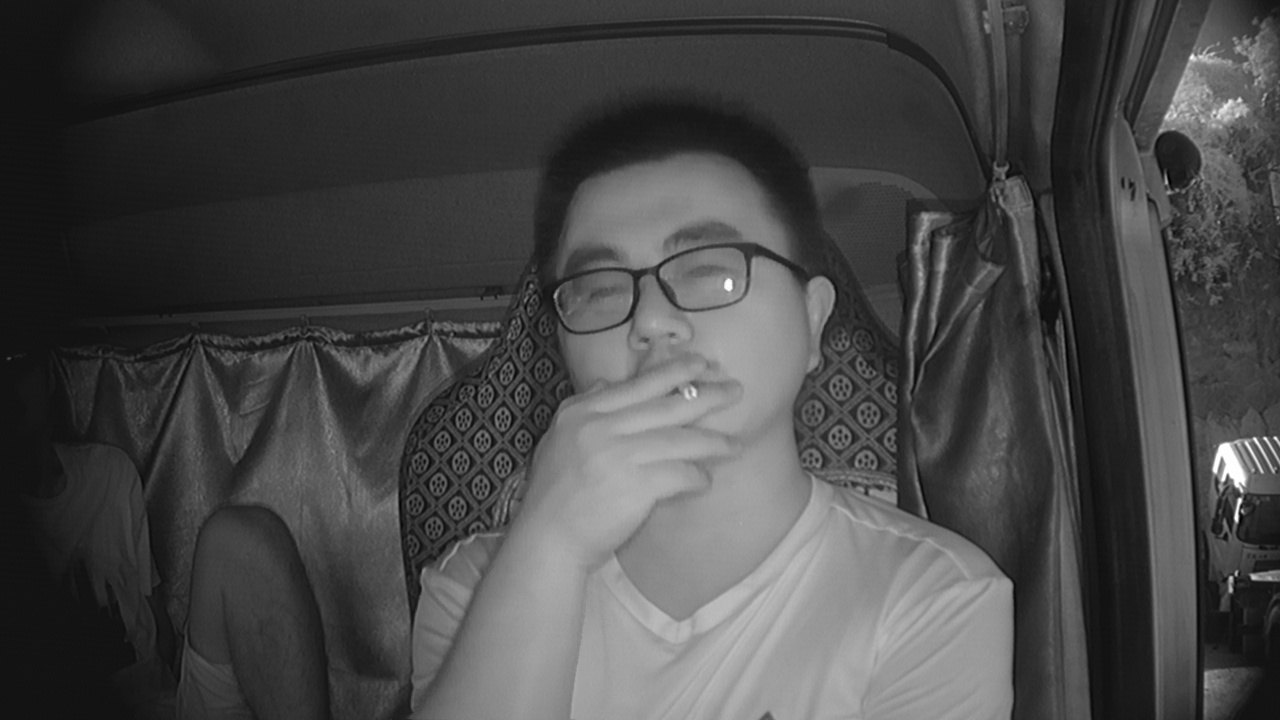hand: (536, 365, 742, 534)
